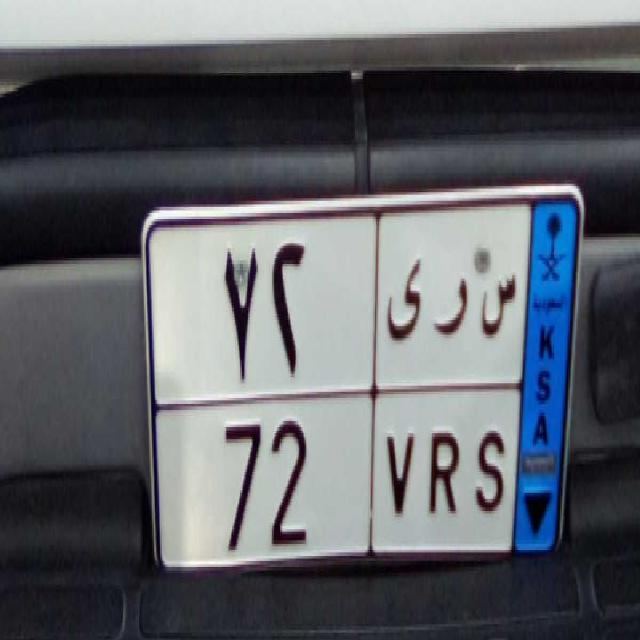license_plate: (149, 387, 520, 576)
